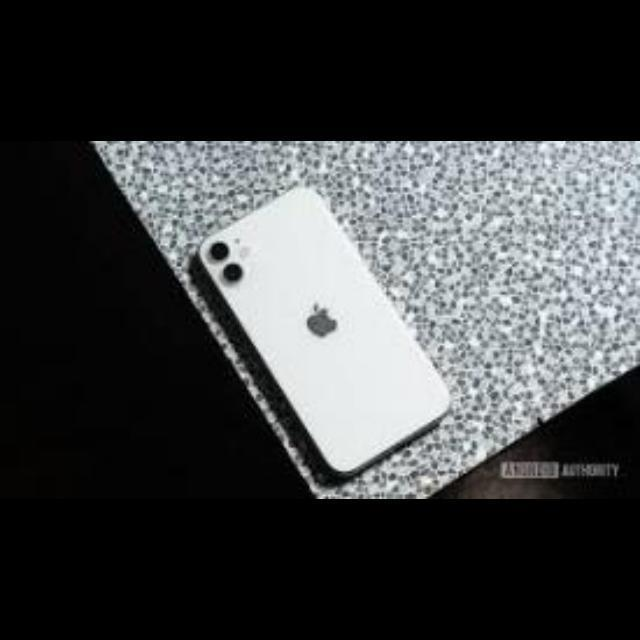PhoneUse: (198, 185, 454, 475)
